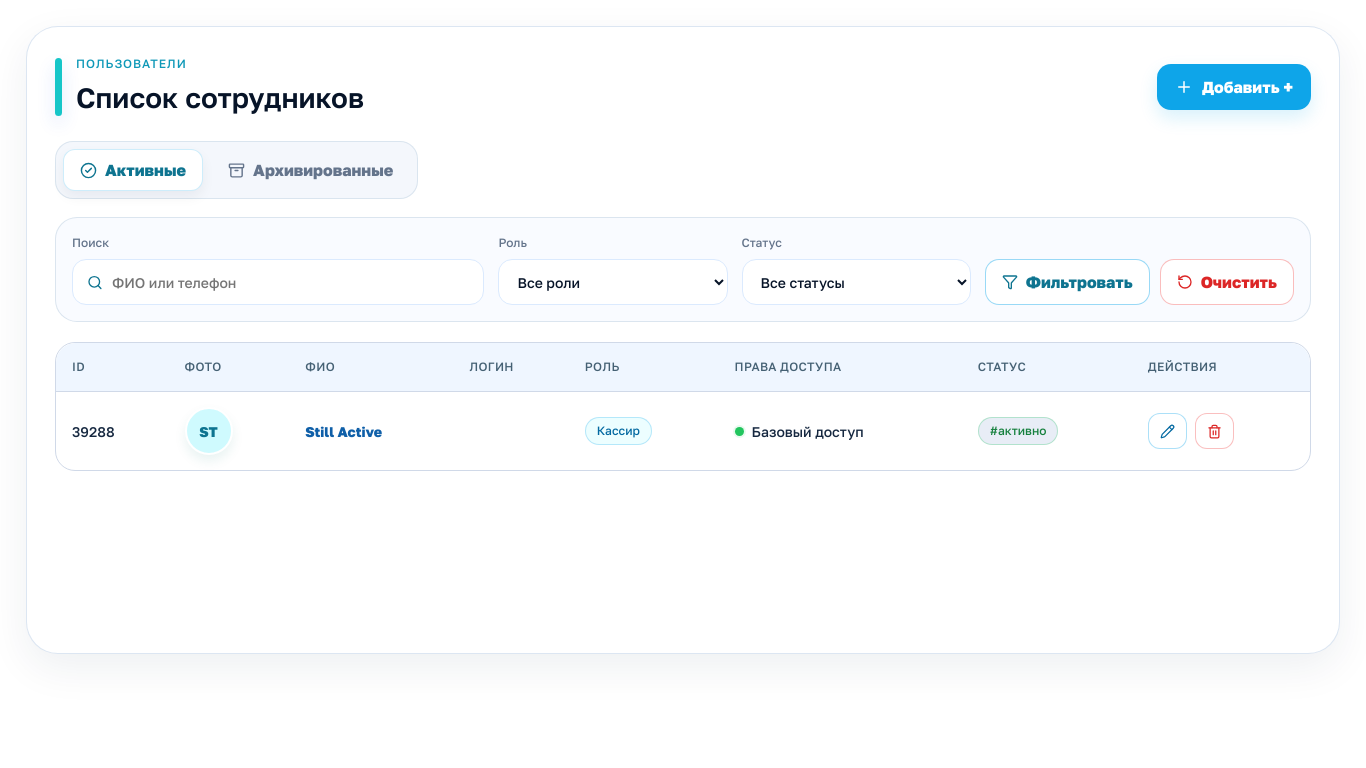
Test: truthful production data states › does not move staff to archive when the backend mutation fails
Check: the text "Still Active" is shown, box [289,391,453,470]
Click the button titled "Archive". click: coordinates (1214, 431)
box: [1195,413,1234,449]
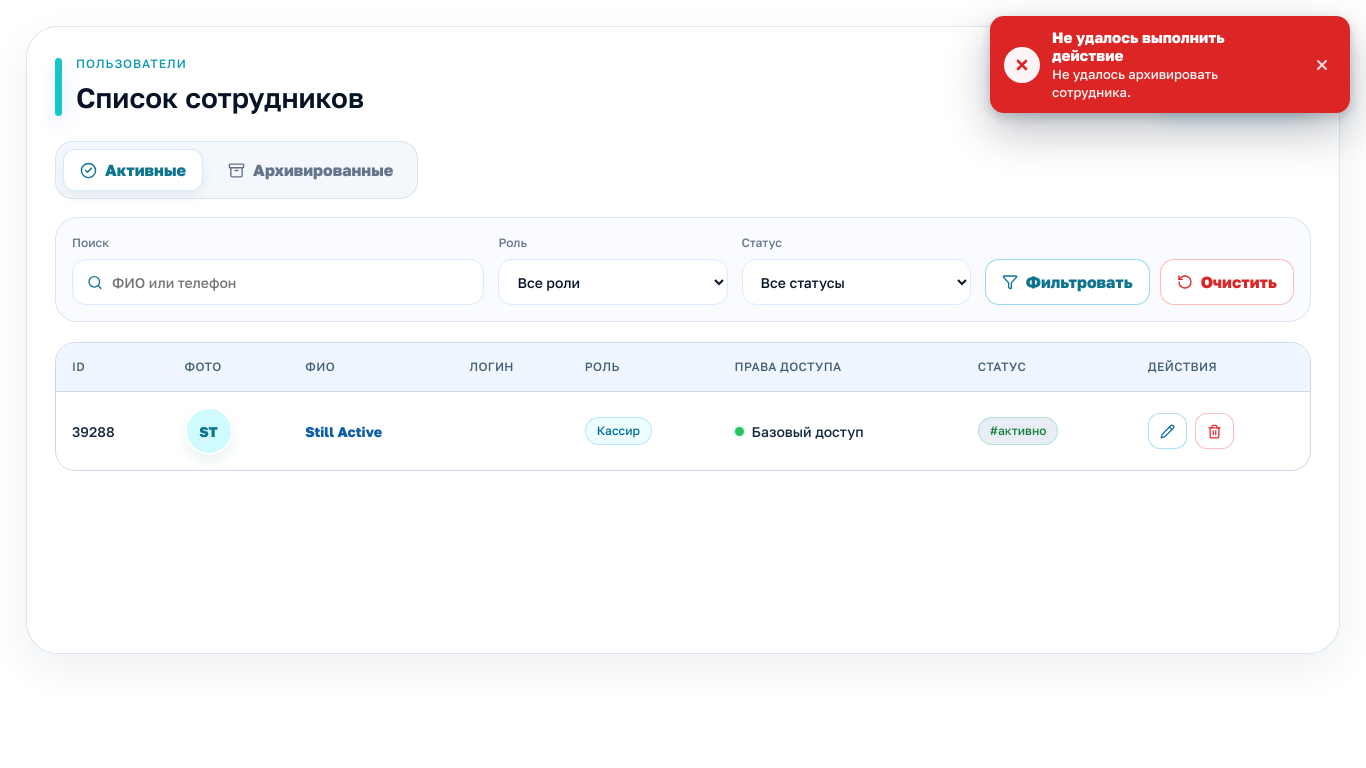
Check: the text "Still Active" is shown, box [289,391,453,470]
Check: the text "Не удалось архивировать сотрудника." is shown, box [1052,66,1218,100]
Check: the message "Не удалось выполнить действие Не удалось архивировать сотрудника." is shown, box [990,16,1350,113]
